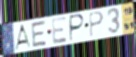3: (107, 7, 121, 36)
A: (14, 23, 32, 51)
E: (30, 19, 48, 49), (51, 15, 68, 45)
P: (69, 13, 86, 43), (88, 11, 105, 39)
